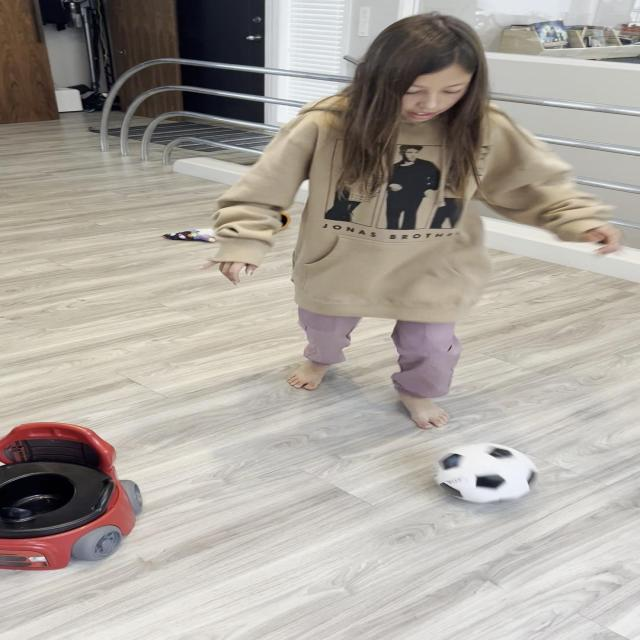Soccer Ball: (432, 443, 538, 502)
